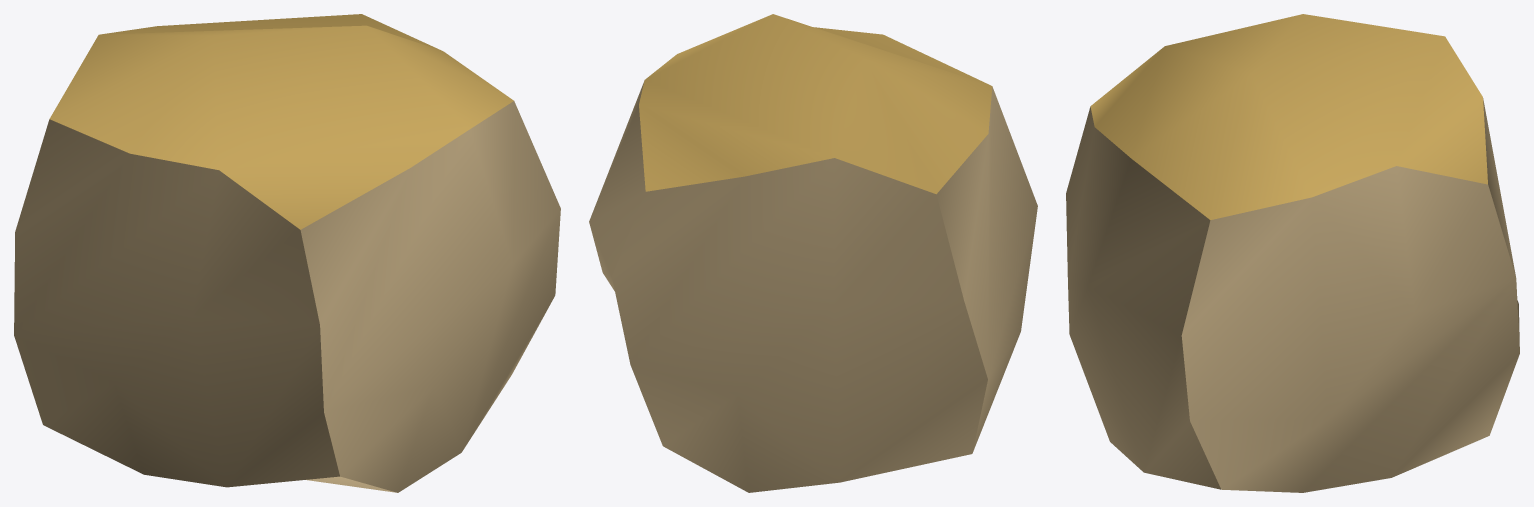
Rendered from crumb_animated.fbx.
The picture shows the model from 3 angles, left to right: view 1: azimuth 30°, elevation 25°; view 2: azimuth 150°, elevation 25°; view 3: azimuth 270°, elevation 25°; orthographic projection. The views are drawn at different scales.
Parts seen in each view (by area): view 1: Cube; view 2: Cube; view 3: Cube.
Part boxes in pixels (x1,y1,x2,y2): Cube: [14, 14, 560, 492]; Cube: [589, 14, 1037, 492]; Cube: [1066, 14, 1519, 492].
Bounding box in the file's own units: 63.86 × 57.85 × 57.98.
